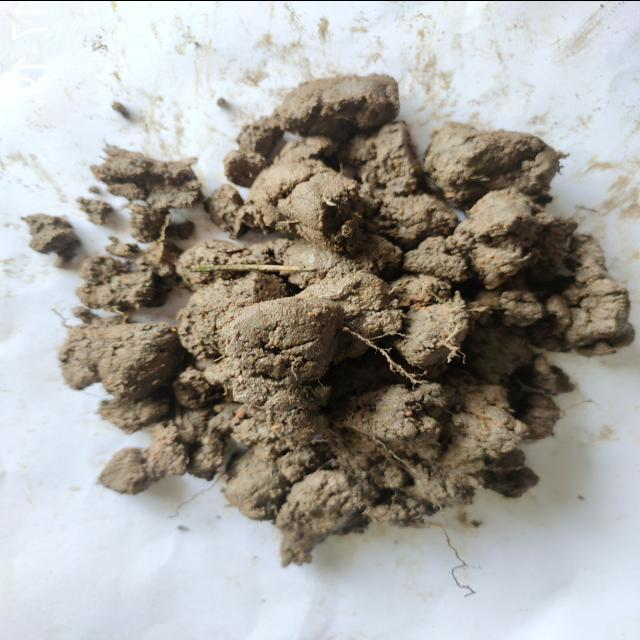soil: (157, 203, 497, 462)
